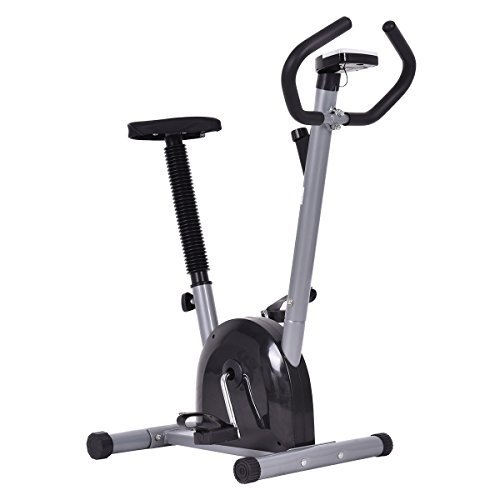gym_bike: (83, 17, 419, 489)
